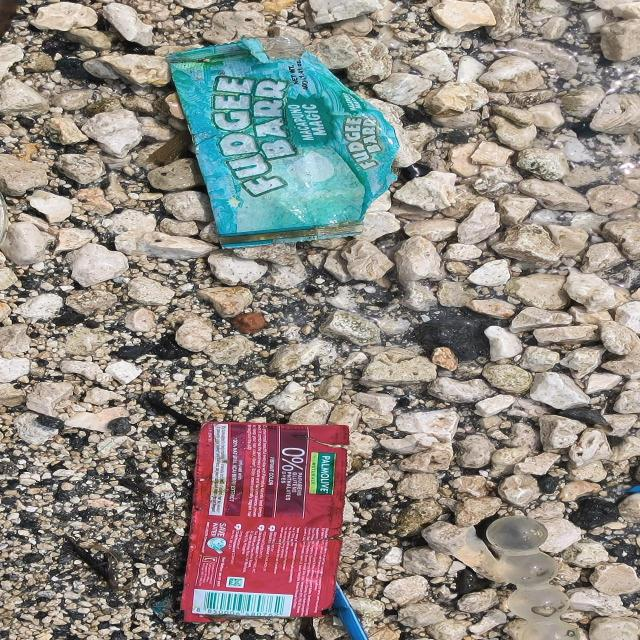plastic_waste: (164, 34, 404, 252), (176, 419, 354, 626)
